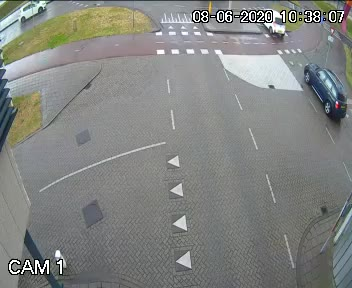car: (295, 53, 349, 127), (255, 2, 286, 46)
